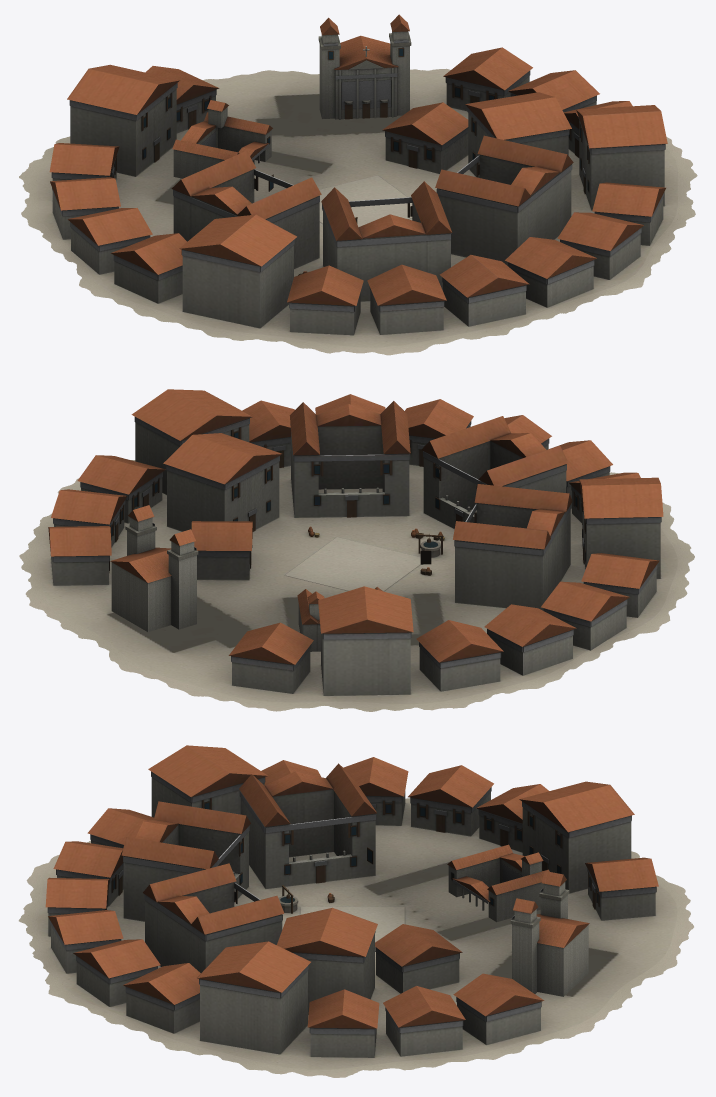
Rendered from gunpowder-town-big-b-americas.glb.
The picture shows the model from 3 angles, top to bottom: view 1: azimuth 30°, elevation 25°; view 2: azimuth 150°, elevation 25°; view 3: azimuth 270°, elevation 25°; orthographic projection.
Visible parts, largest first — view 1: LOD0; view 2: LOD0; view 3: LOD0.
Part boxes in pixels (bbox=[...]): LOD0: bbox=[19, 14, 697, 355]; LOD0: bbox=[19, 389, 694, 711]; LOD0: bbox=[18, 745, 693, 1077].
Size of what is drawn, in the model's own units: 8.03 by 1.2 by 7.93.
3 materials, 3 textured.
